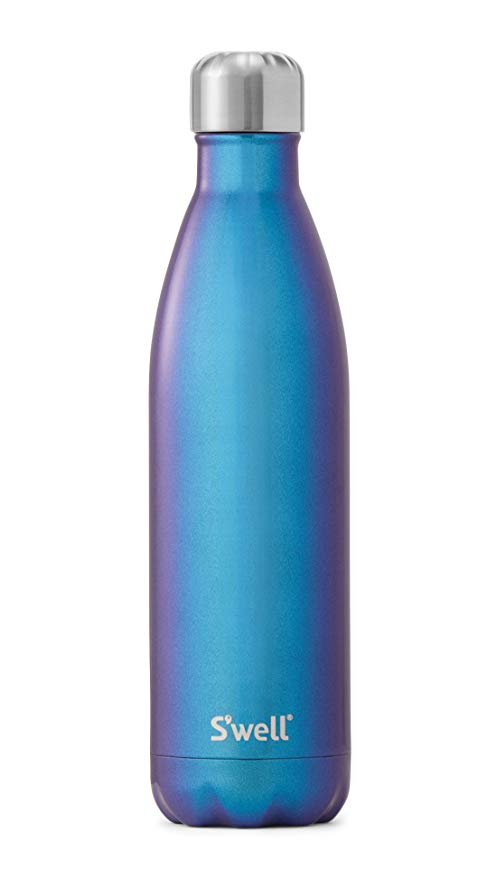bottle: (143, 48, 355, 834)
